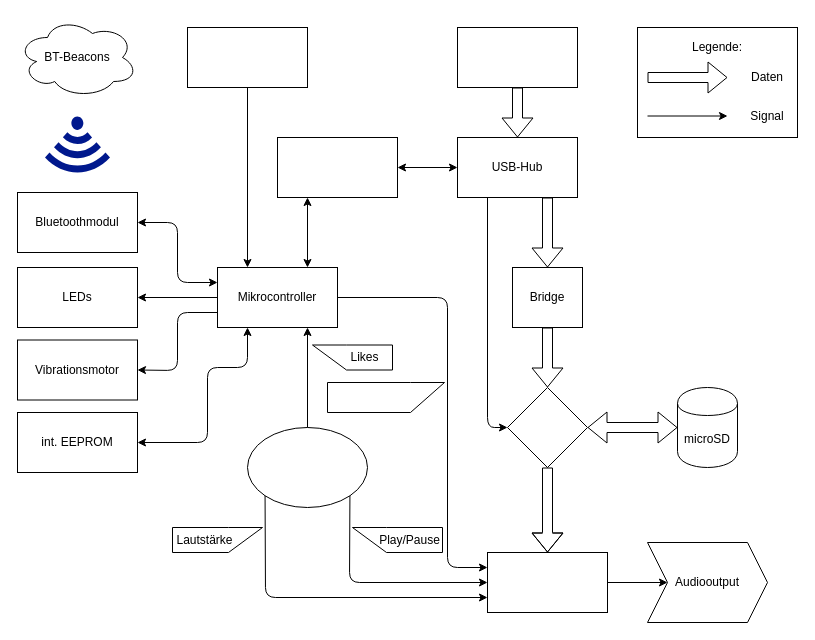
Some shapes in this 815 by 640 pixel diagram are drawn without their labels. Each missing label, with the centre of its shape:
"Audioboard" goes at pixel 547 582.
"ICSP-Header" goes at pixel 247 57.
"PC" goes at pixel 517 57.
"Switch" goes at pixel 547 427.
"Tasten" goes at pixel 307 467.
"Track Control" goes at pixel 385 397.
"USB zu UART" goes at pixel 337 167.
